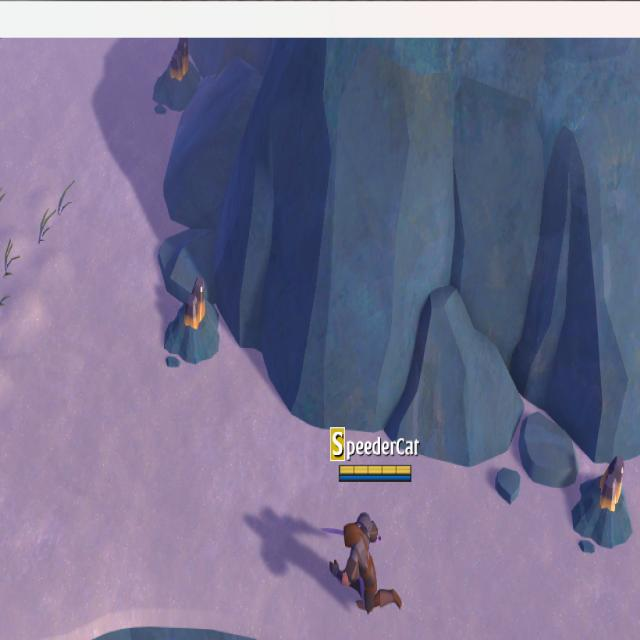copper: (565, 448, 637, 558), (157, 268, 224, 376), (148, 35, 202, 118)
